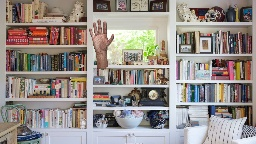Mano_aperta: (84, 18, 115, 54)
